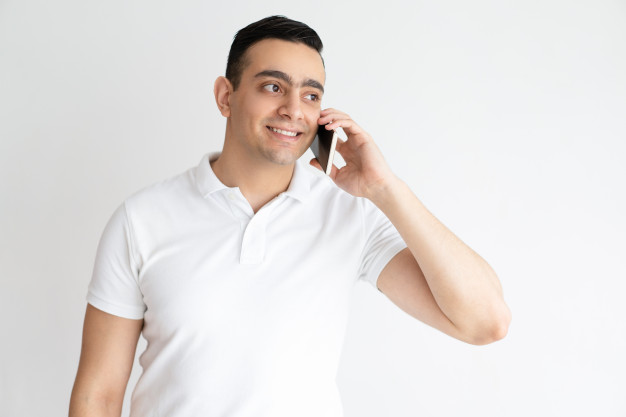phone: (304, 104, 350, 183)
talk: (245, 62, 385, 197)
